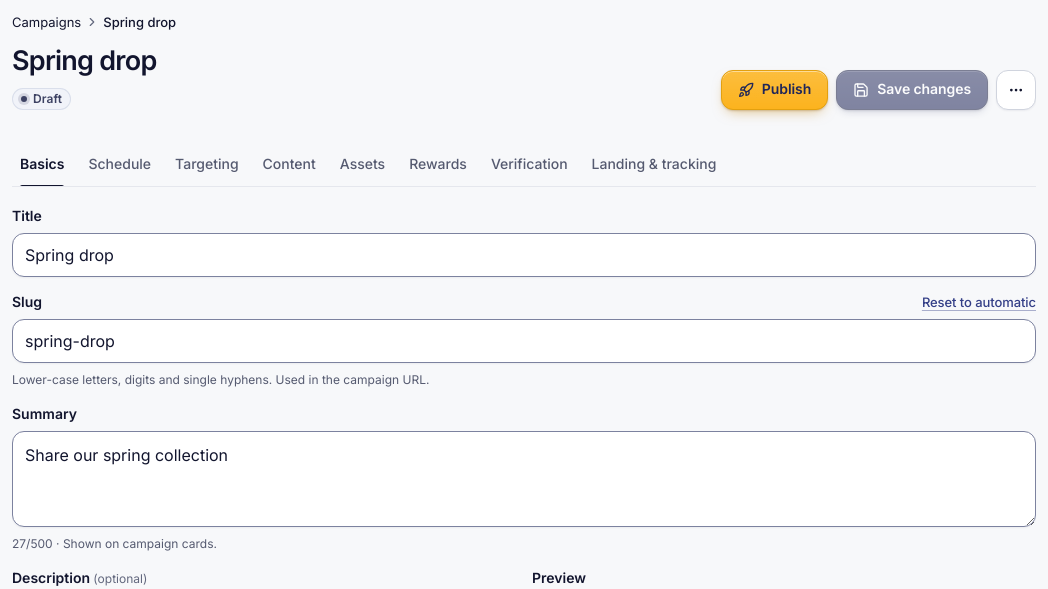
Test case: CampaignEditorPage › offers a reload when the save hits a concurrency conflict
Replace the text in the field labelled "Title" with "My edit" at x=524, y=255, box [12,233,1036,277]
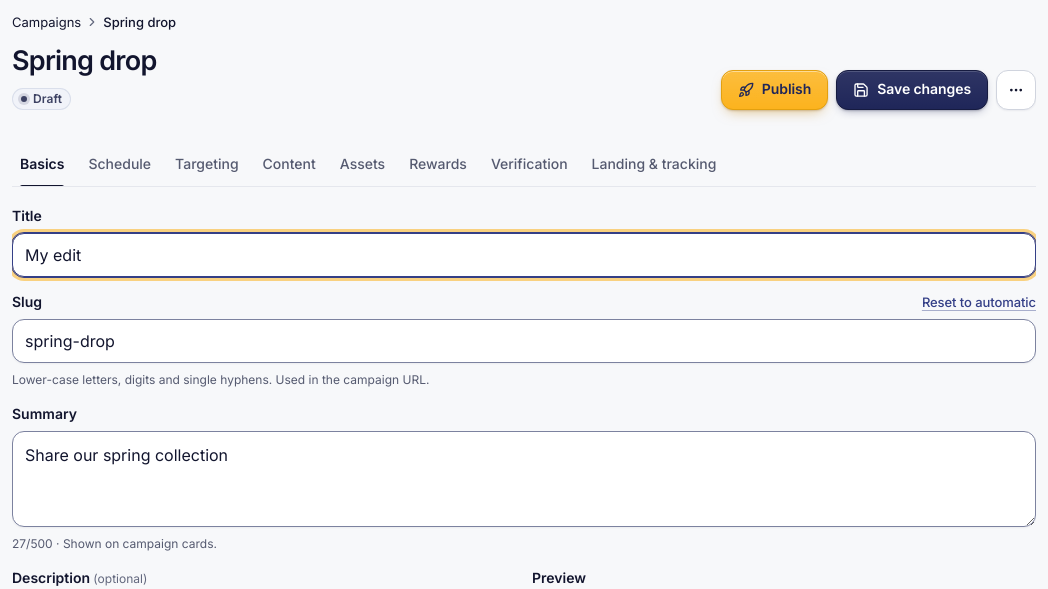
Click the button "Save changes" at x=912, y=90, box [836,70,988,110]
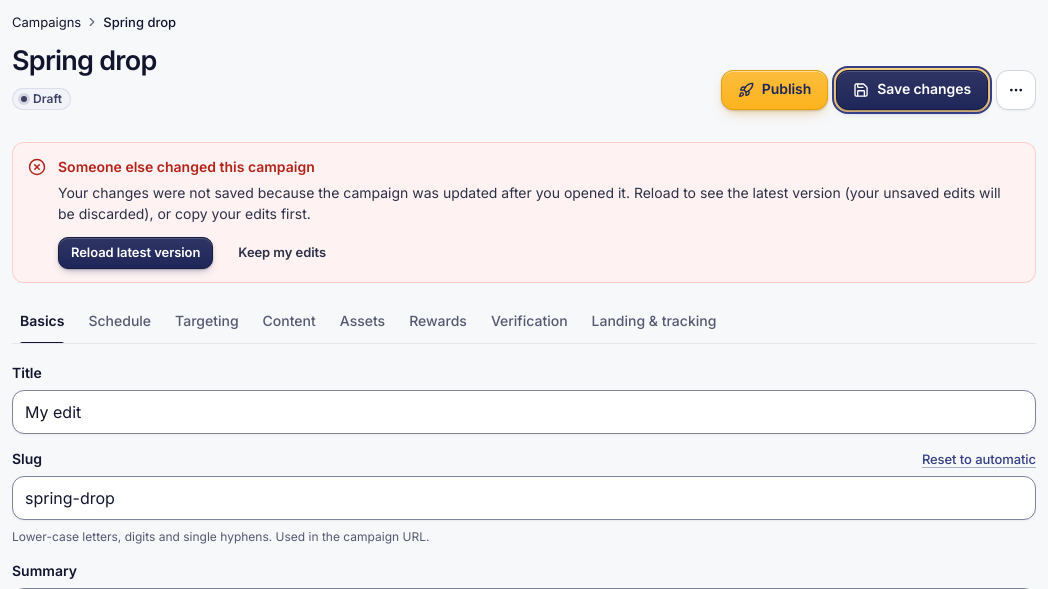
Expected: the text "Someone else changed this campaign" is shown, [58,158,315,175]
Click the button "Reload latest version" at x=136, y=253, box [58,237,213,269]
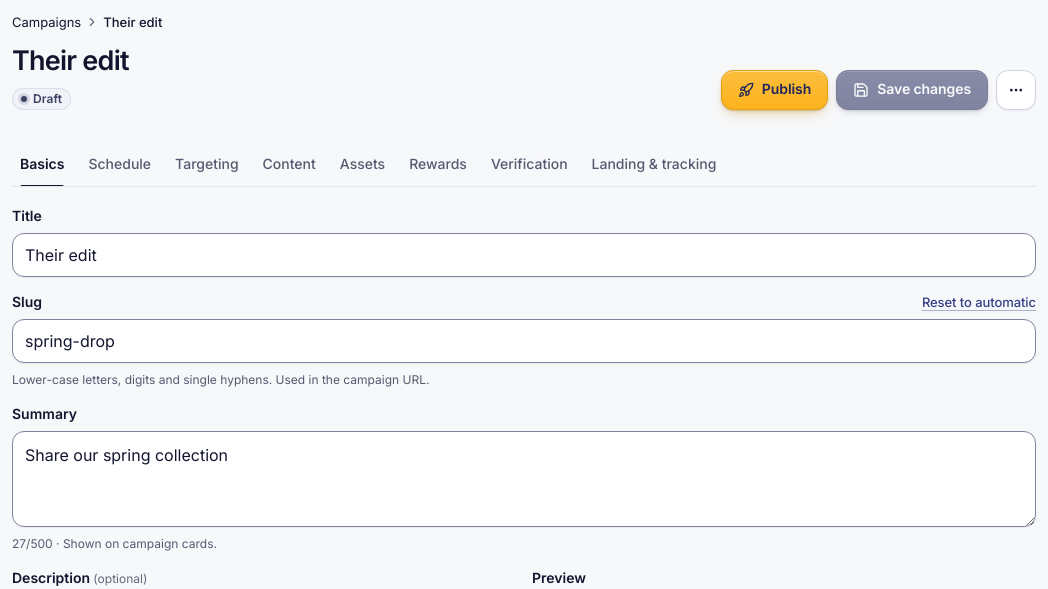
Expected: the field labelled "Title" holds "Their edit", [12,233,1036,277]
Expected: the text "Someone else changed this campaign" is gone
